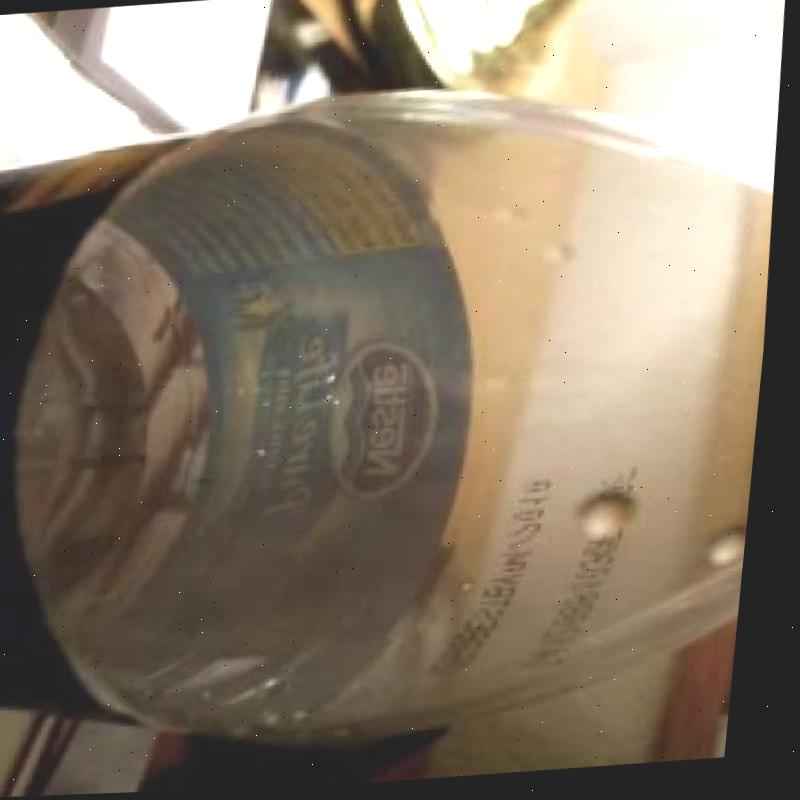botella: (0, 71, 793, 753)
